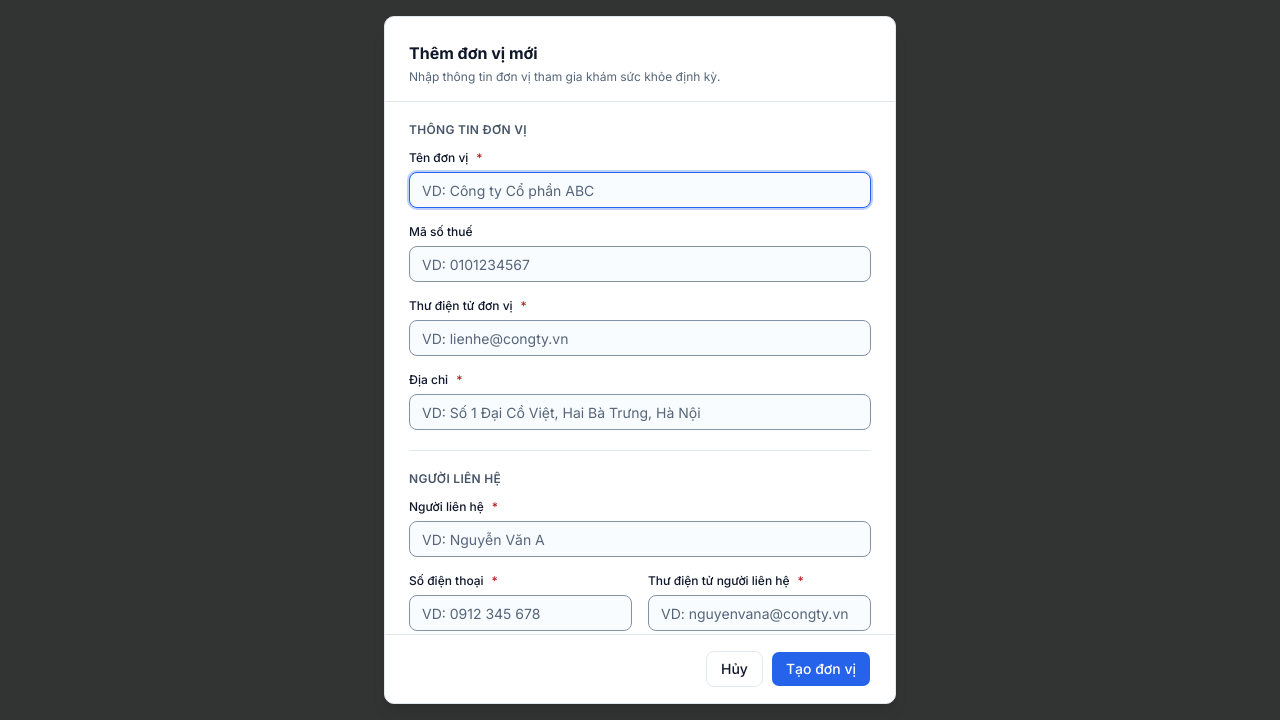
Test: CreateOrganizationDialog › validates required organization fields
Click the button "Tạo đơn vị" at (821, 669), box [771, 651, 871, 687]
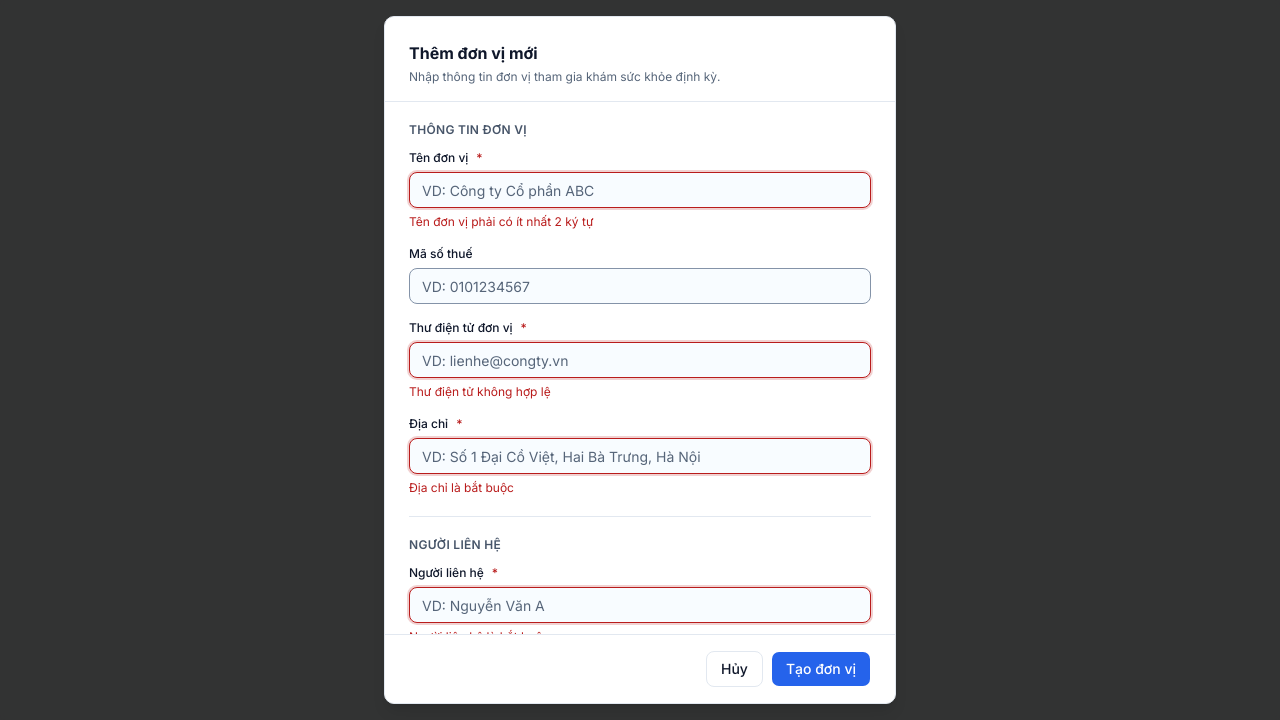
Expected: the text "Tên đơn vị phải có ít nhất 2 ký tự" is shown, [409, 214, 593, 229]
